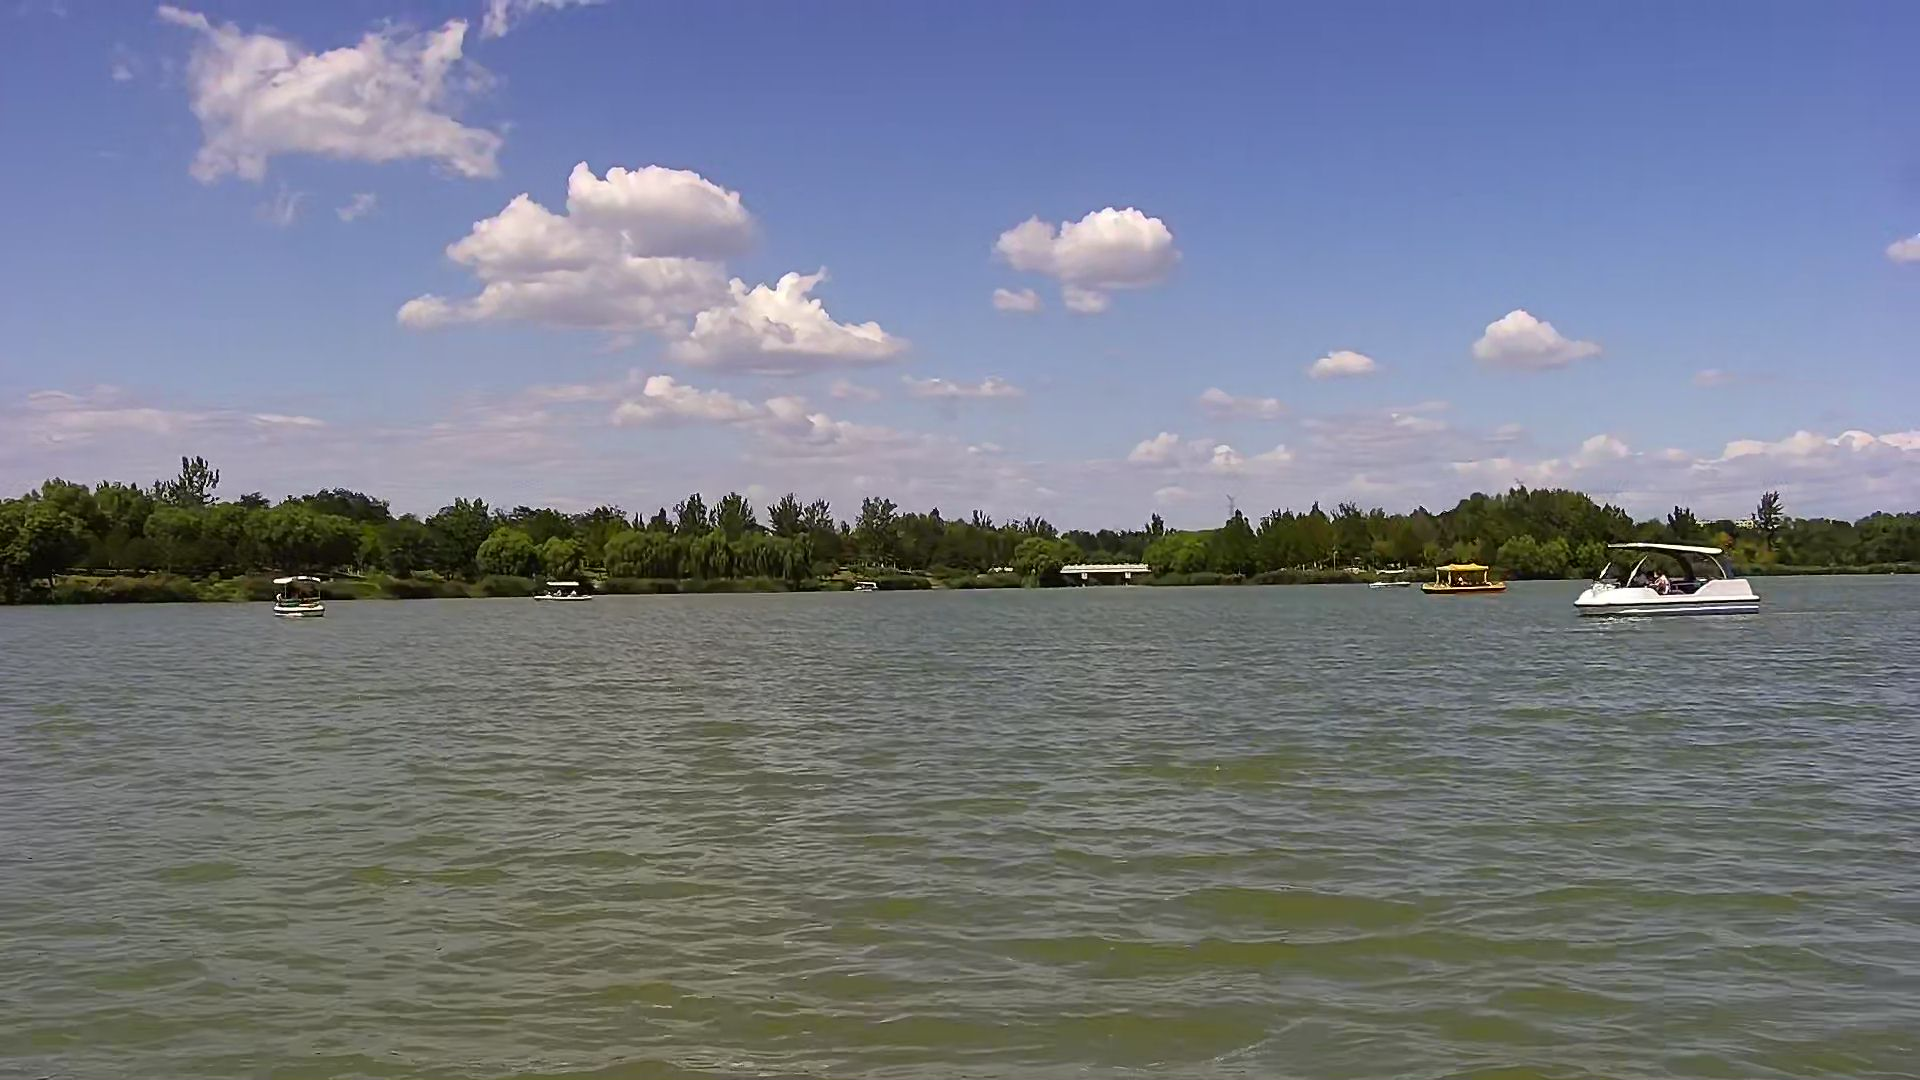boat: (1575, 538, 1754, 612), (1423, 560, 1501, 593), (272, 574, 323, 620), (538, 578, 584, 601), (1370, 567, 1410, 587)
bridge: (1062, 560, 1154, 587)
